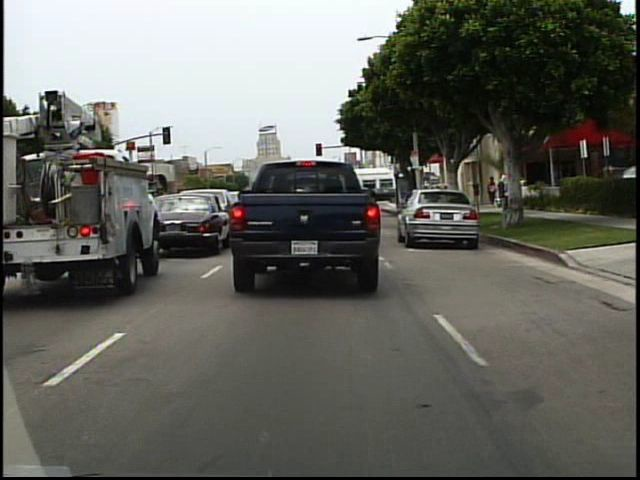person: (487, 177, 500, 208)
